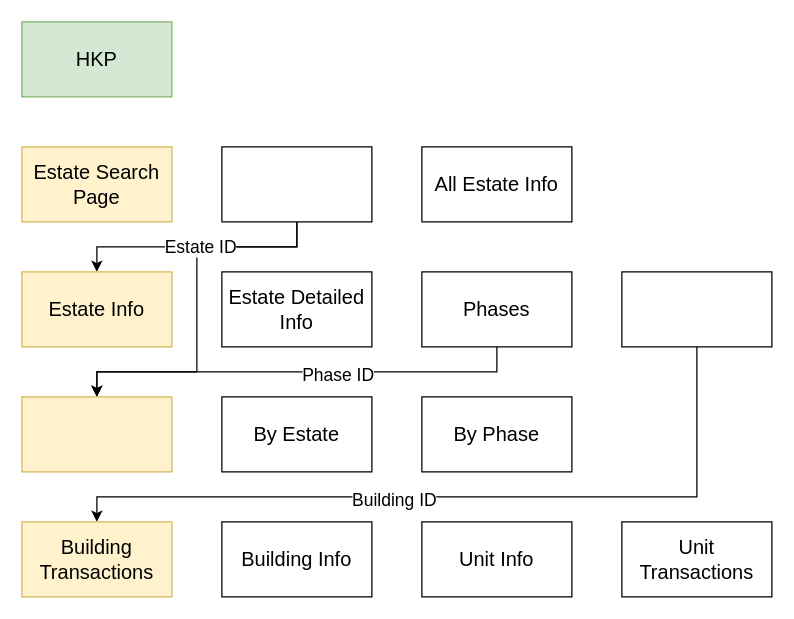
Some shapes in this 794 by 619 pixel diagram are drawn without their labels. Here are the shapes that lost their labels. From the top down, the box of each, then its label:
(221, 146, 372, 222): Estate IDs
(621, 271, 772, 347): Buildings
(21, 396, 172, 472): Monthly Market Info
